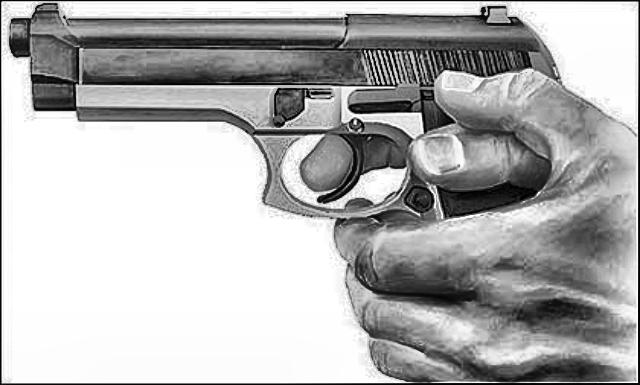pistol: (3, 2, 554, 226)
